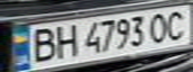3: (127, 12, 151, 47)
4: (81, 19, 103, 55)
7: (97, 17, 118, 52)
9: (115, 16, 136, 50)
B: (24, 25, 60, 64)
C: (160, 7, 193, 42)
H: (48, 22, 81, 58)
O: (145, 10, 172, 44)
